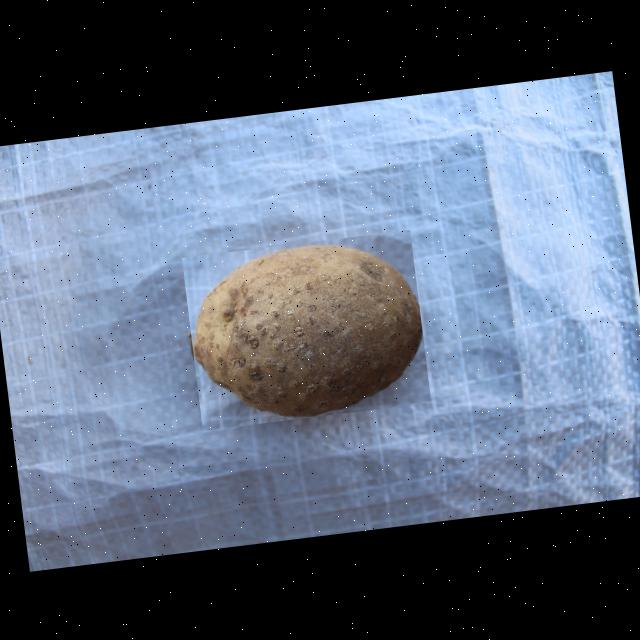Diseased-fungal potato: (180, 228, 430, 430)
